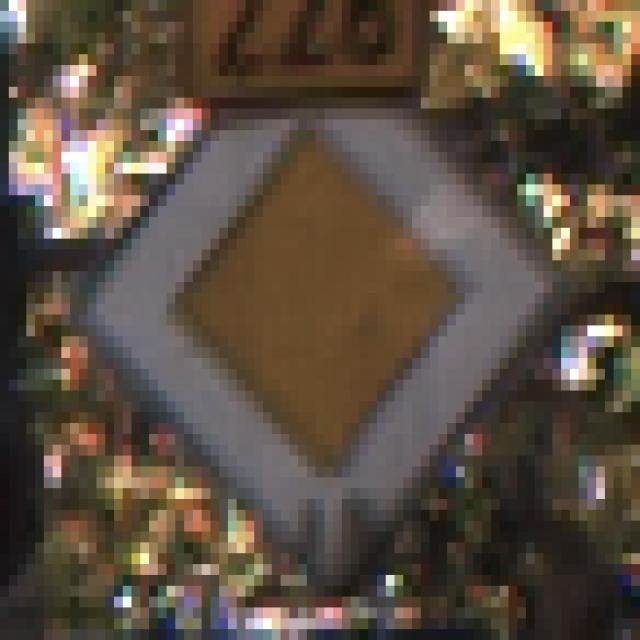Main Road: (63, 66, 589, 587)
